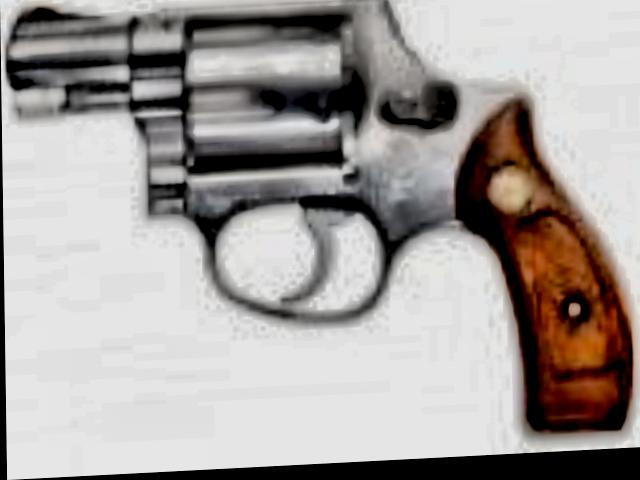pistol: (4, 0, 633, 468)
